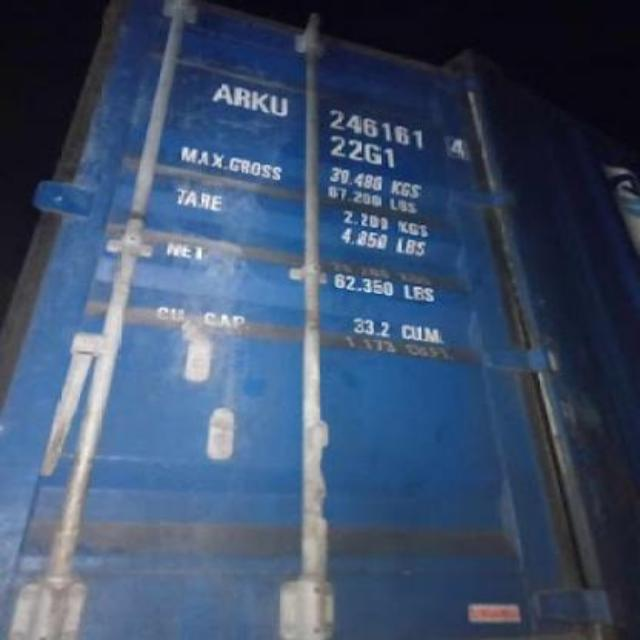1: (382, 119, 396, 143), (414, 128, 426, 148)
2: (324, 106, 348, 130)
4: (448, 136, 468, 158), (346, 108, 359, 136)
6: (364, 115, 382, 139), (394, 122, 412, 144)
A: (210, 80, 236, 108)
K: (250, 89, 270, 115)
R: (232, 81, 252, 111)
U: (268, 94, 290, 116)
